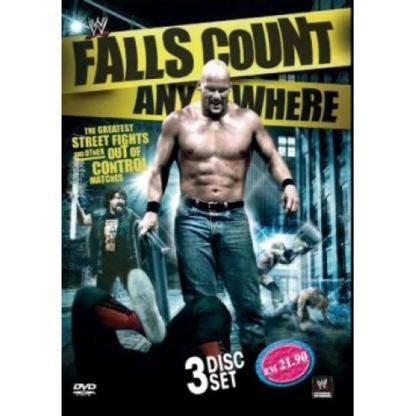face: (203, 79, 230, 115), (204, 326, 231, 361), (112, 193, 126, 213), (293, 241, 310, 256)
